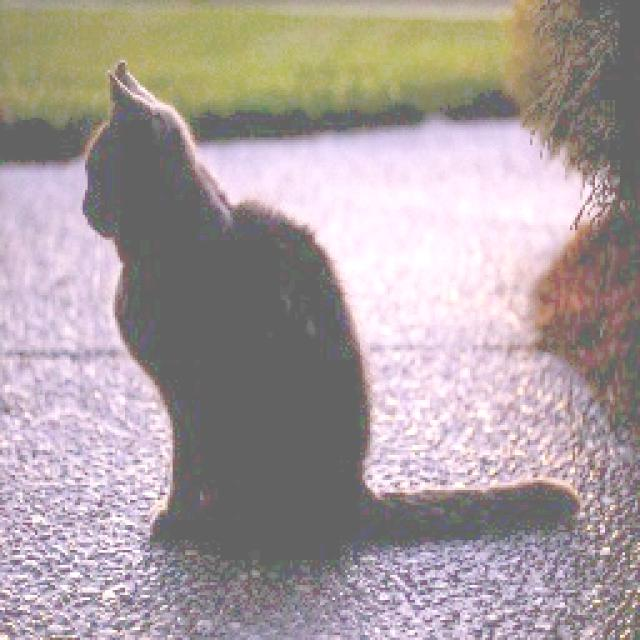cat: (76, 57, 586, 560)
